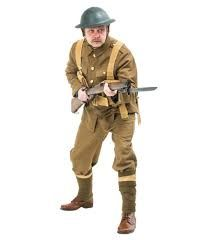gun: (63, 81, 160, 109)
